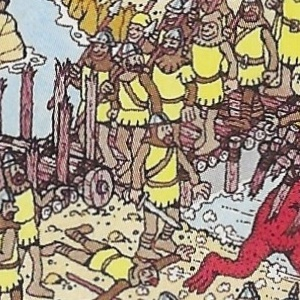Odlaw: (138, 117, 162, 183)
